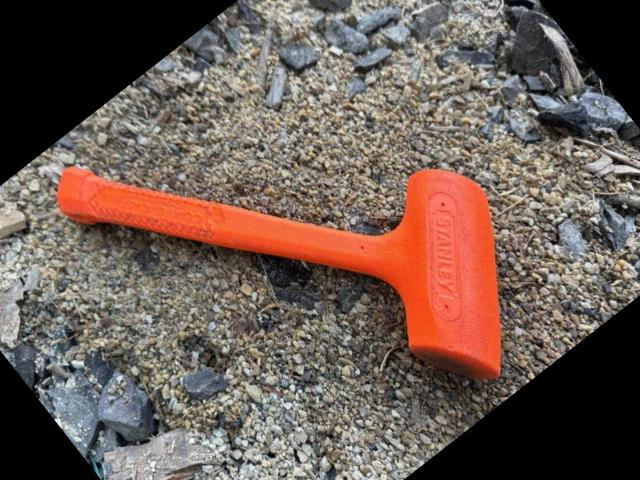hammer: (41, 0, 581, 480)
